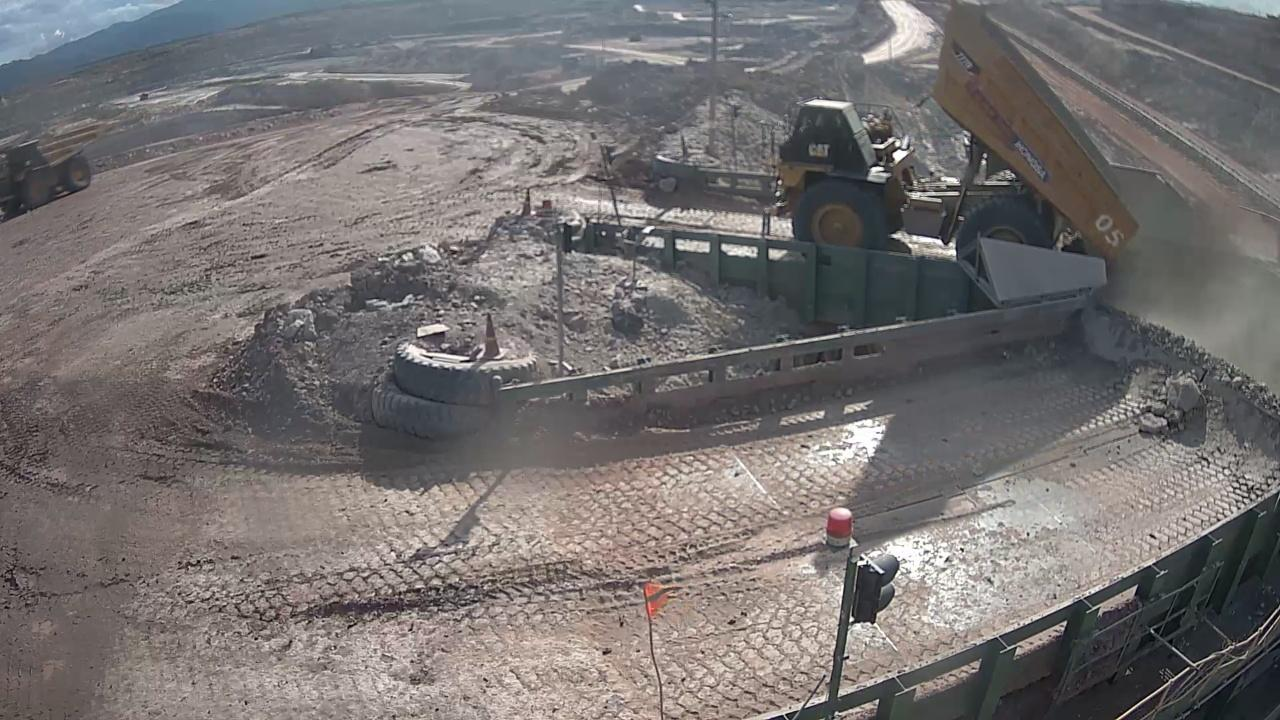dumping_soil: (764, 0, 1140, 290)
mining_truck: (2, 117, 110, 222)
tail_number: (1089, 203, 1128, 250)
